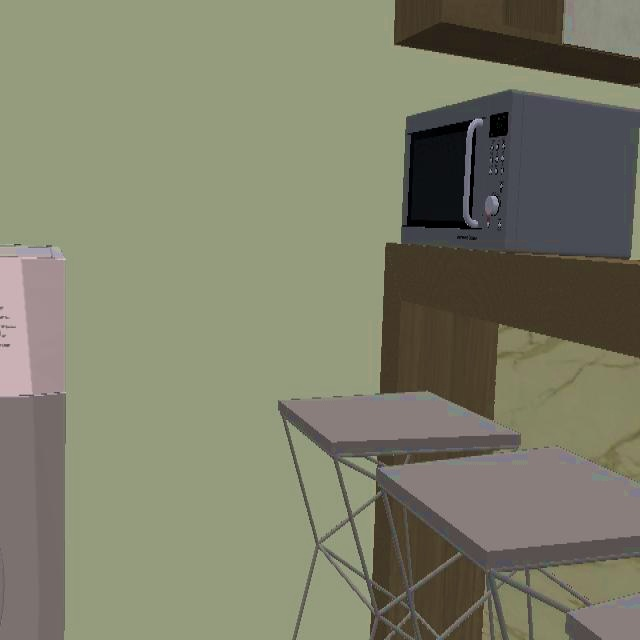chair: (278, 391, 613, 591)
microwave: (402, 92, 640, 260)
